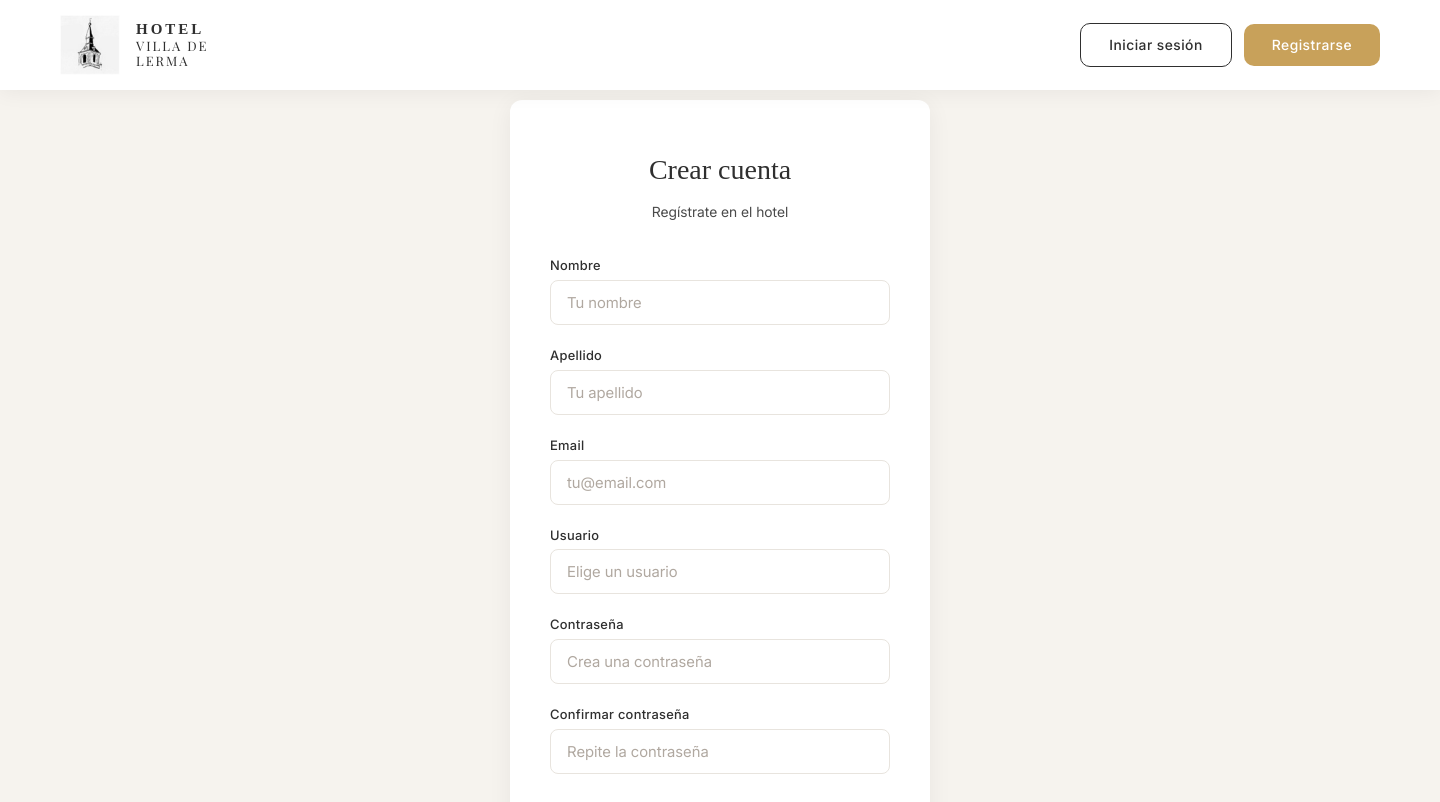
Test: Register › contraseñas no coinciden muestra error
Step 1. Type "Ana" into the field labelled "Nombre" → [720, 302], box [550,280,890,325]
Step 2. Type "Perez" into the field labelled "Apellido" → [720, 392], box [550,370,890,415]
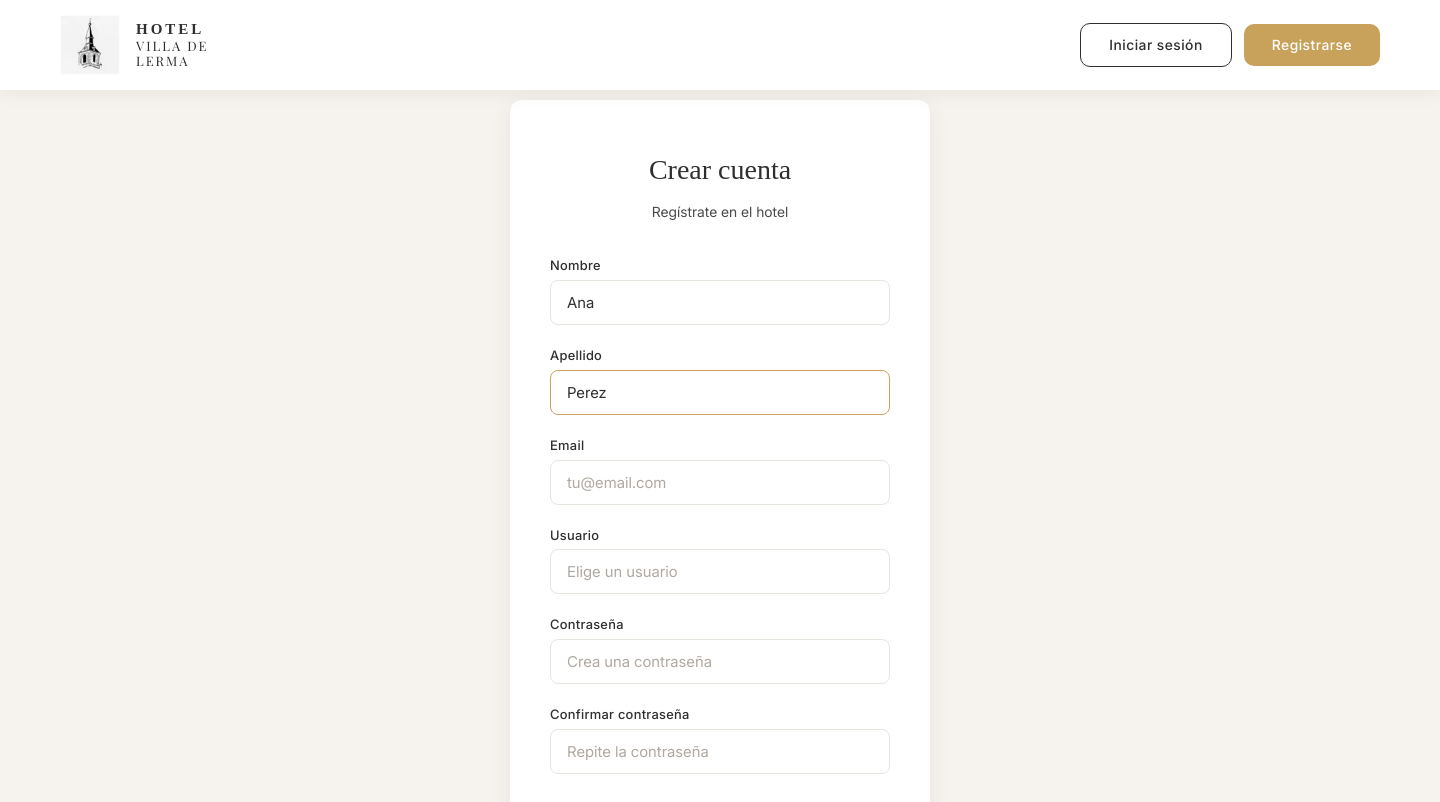
Step 3. Type "ana@test.es" into the field labelled "Email" → [720, 482], box [550,460,890,505]
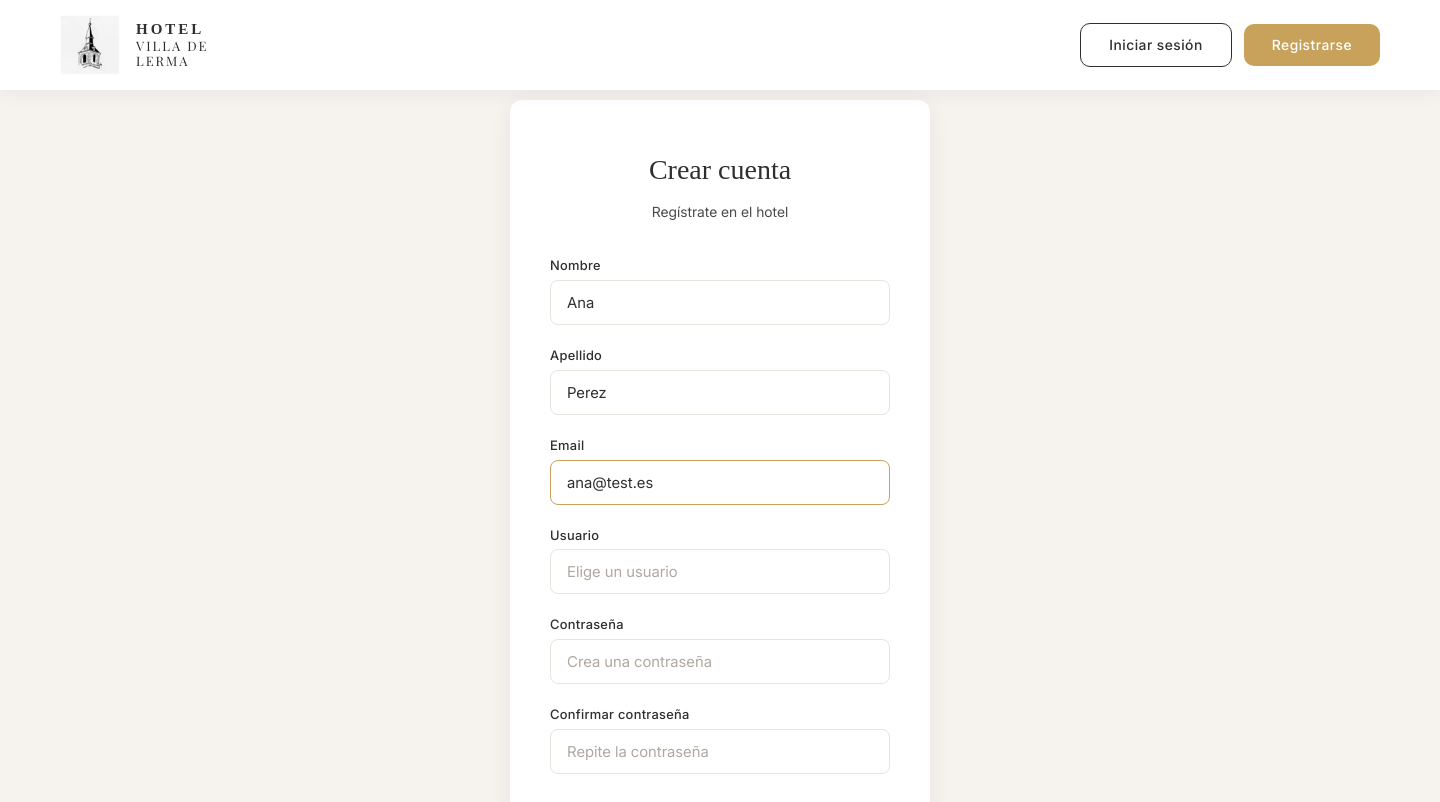
Step 4. Type "ana" into the field labelled "Usuario" → [720, 572], box [550,549,890,594]
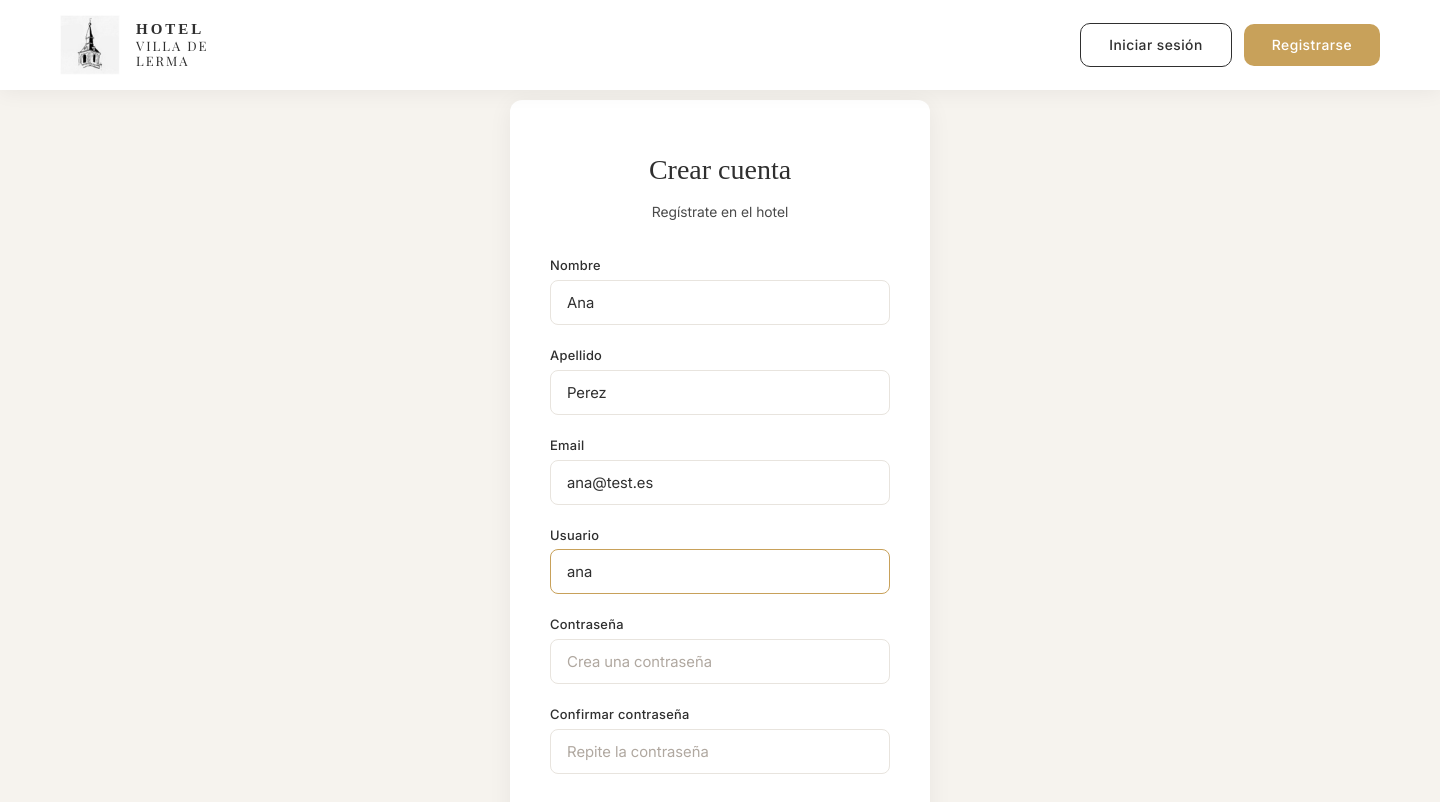
Step 5. Type "clave123" into the password field labelled "Contraseña" → [720, 662], box [550,639,890,684]
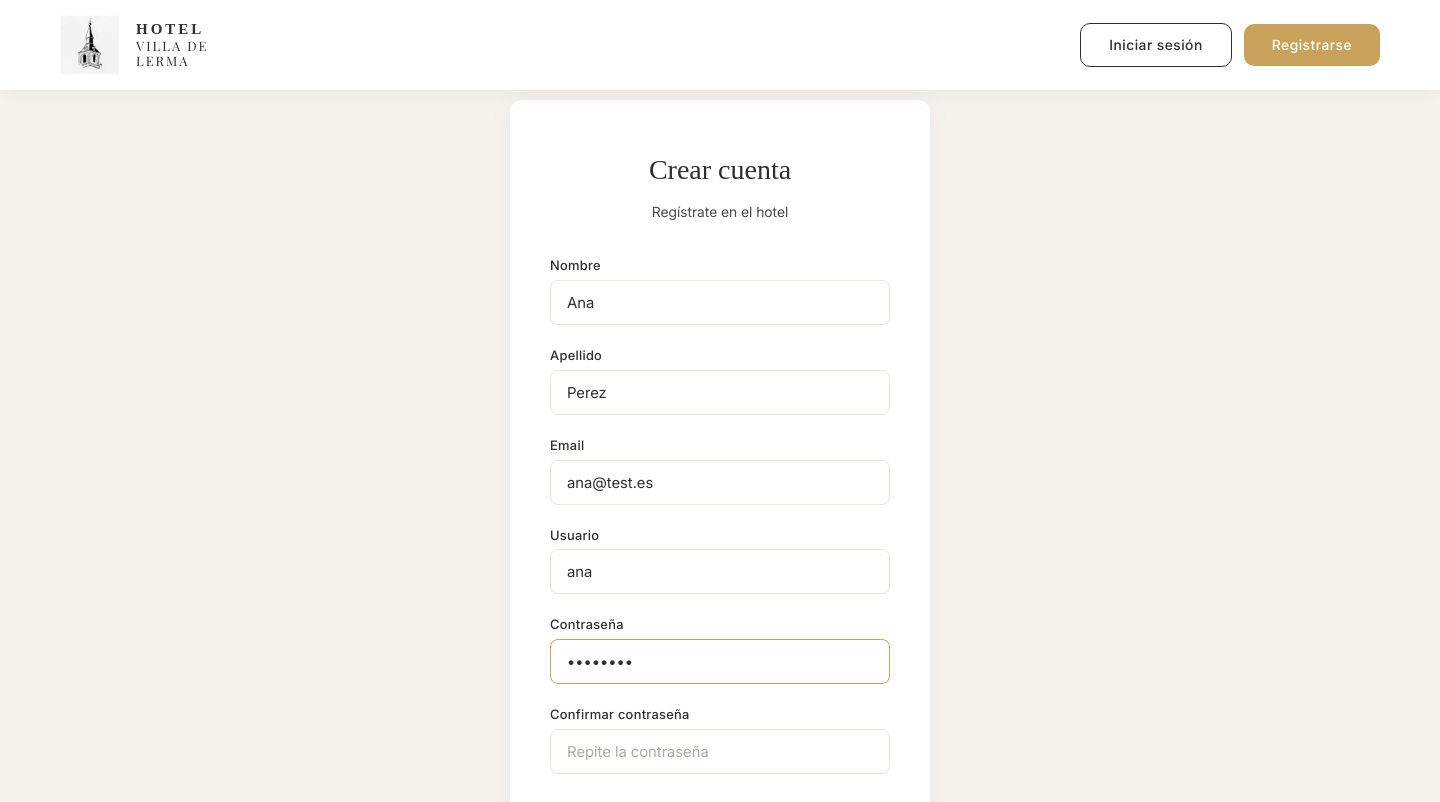
Step 6. Type "clave456" into the password field labelled "Confirmar contraseña" → [720, 752], box [550,729,890,774]
(page scrolled)
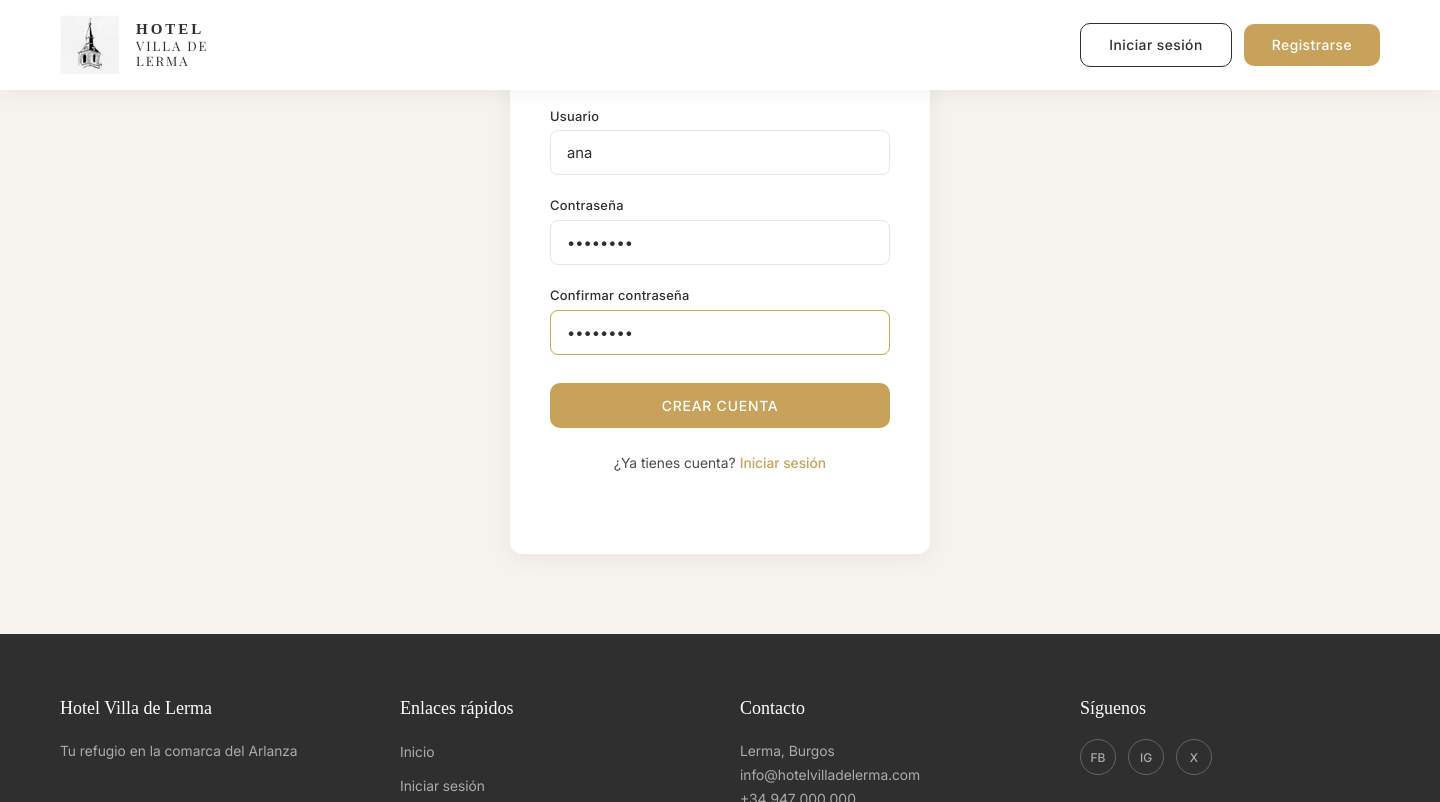
Step 7. Click the button "Crear cuenta" → [720, 406], box [550,383,890,428]
(page scrolled)
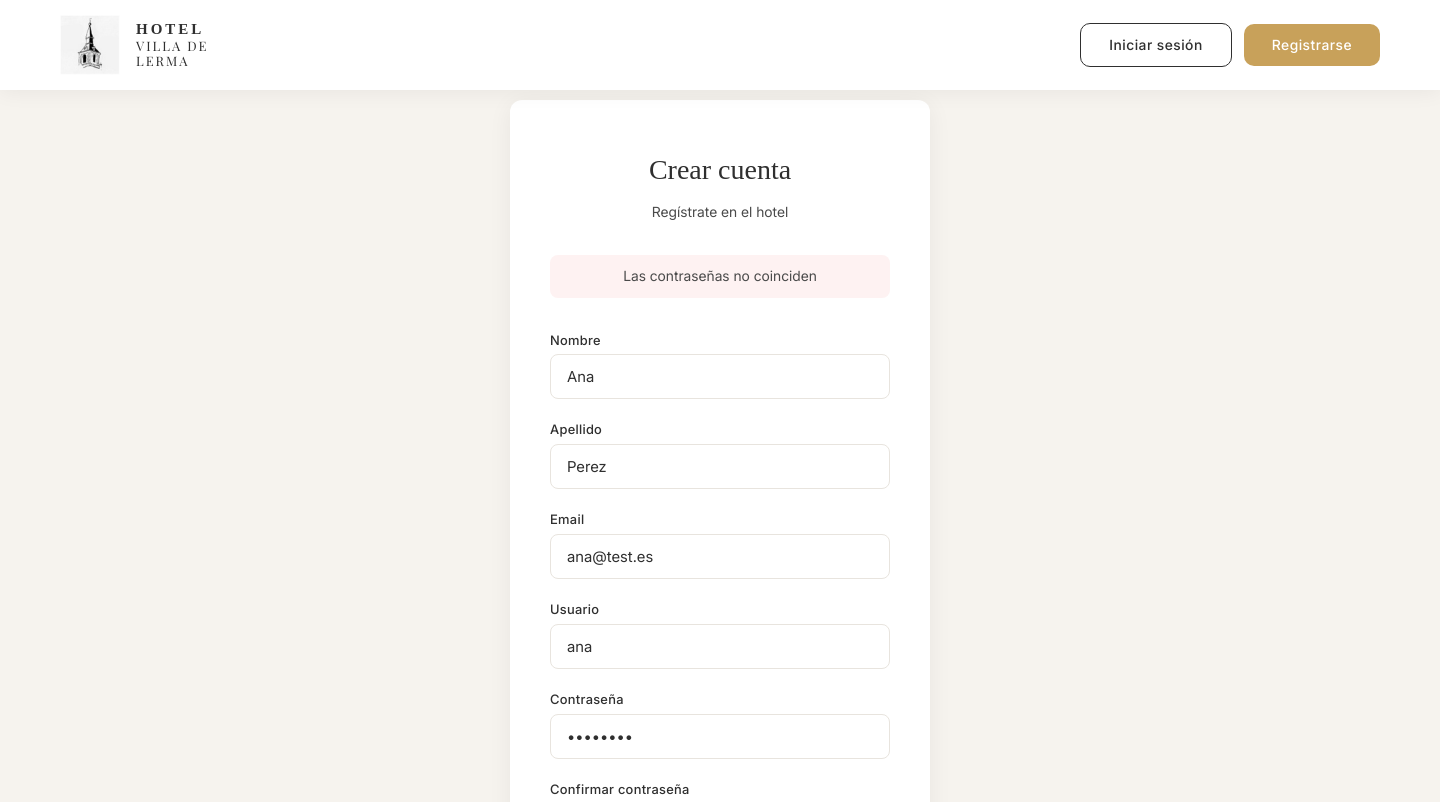
Result: the text "Las contraseñas no coinciden" is shown at [550,255,890,298]
